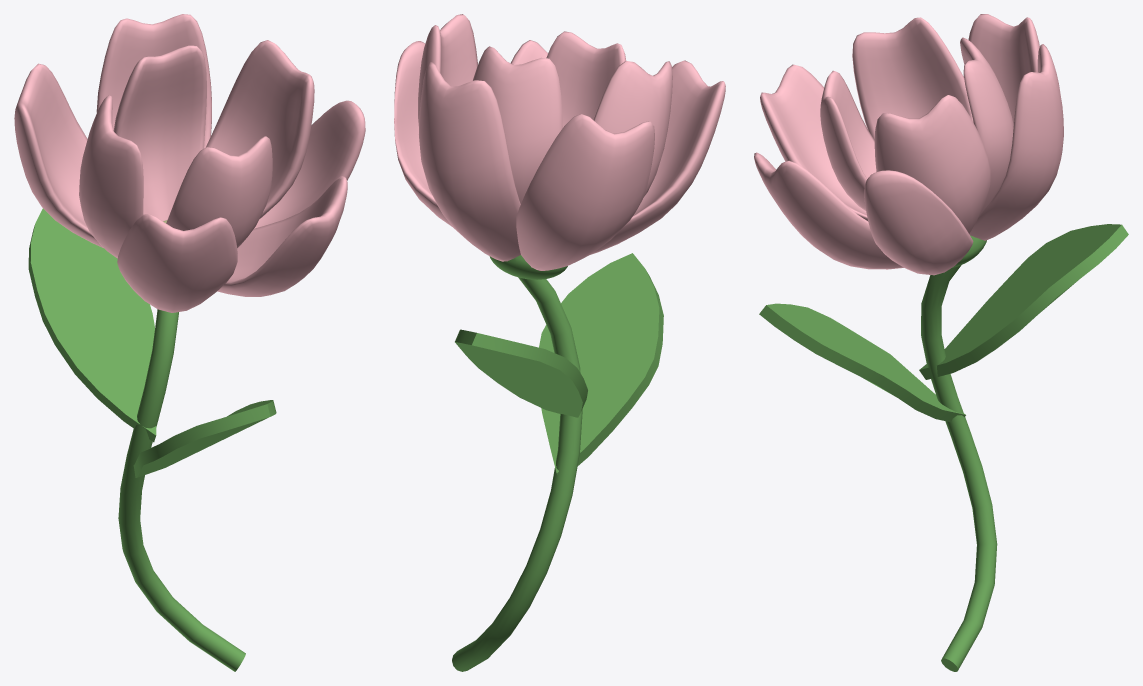
Rendered from FlowerAR1.glb.
The picture shows the model from 3 angles, left to right: view 1: azimuth 30°, elevation 25°; view 2: azimuth 150°, elevation 25°; view 3: azimuth 270°, elevation 25°; orthographic projection. The views are drawn at different scales.
Parts seen in each view (by area): view 1: 圆环, 平面.008, 平面.007, 平面.004, 贝塞尔曲线, 平面.002, 平面.006, 平面.005, 平面.003, 平面.009, 平面, 圆环.001; view 2: 平面.002, 圆环.001, 平面, 贝塞尔曲线, 平面.004, 平面.008, 圆环, 平面.003, 平面.005, 平面.009, 平面.007, 球体 (+1 smaller); view 3: 圆环, 平面.007, 平面.003, 贝塞尔曲线, 平面, 平面.009, 平面.006, 圆环.001, 平面.004, 平面.005, 平面.008, 平面.002.
Part boxes in pixels (x1=…): 圆环: x1=28, y1=208, x2=156, y2=442; 平面.008: x1=113, y1=45, x2=206, y2=221; 平面.007: x1=206, y1=40, x2=314, y2=218; 平面.004: x1=117, y1=214, x2=237, y2=312; 贝塞尔曲线: x1=118, y1=309, x2=245, y2=671; 平面.002: x1=14, y1=63, x2=103, y2=247; 平面.006: x1=217, y1=176, x2=347, y2=296; 平面.005: x1=166, y1=136, x2=272, y2=247; 平面.003: x1=79, y1=95, x2=143, y2=258; 平面.009: x1=254, y1=100, x2=365, y2=228; 平面: x1=96, y1=14, x2=211, y2=148; 圆环.001: x1=133, y1=400, x2=276, y2=477; 平面.002: x1=516, y1=114, x2=654, y2=270; 圆环.001: x1=539, y1=253, x2=663, y2=474; 平面: x1=419, y1=62, x2=520, y2=261; 贝塞尔曲线: x1=452, y1=277, x2=582, y2=671; 平面.004: x1=590, y1=60, x2=725, y2=254; 平面.008: x1=473, y1=46, x2=562, y2=203; 圆环: x1=455, y1=329, x2=587, y2=417; 平面.003: x1=593, y1=61, x2=672, y2=197; 平面.005: x1=546, y1=31, x2=626, y2=127; 平面.009: x1=394, y1=41, x2=452, y2=226; 平面.007: x1=418, y1=14, x2=477, y2=125; 球体: x1=489, y1=255, x2=567, y2=279; 圆环: x1=919, y1=224, x2=1128, y2=379; 平面.007: x1=874, y1=95, x2=990, y2=233; 平面.003: x1=852, y1=17, x2=972, y2=139; 贝塞尔曲线: x1=921, y1=265, x2=997, y2=671; 平面: x1=969, y1=44, x2=1063, y2=240; 平面.009: x1=864, y1=170, x2=973, y2=275; 平面.006: x1=754, y1=152, x2=904, y2=269; 圆环.001: x1=759, y1=303, x2=965, y2=422; 平面.004: x1=760, y1=64, x2=868, y2=221; 平面.005: x1=820, y1=70, x2=876, y2=210; 平面.008: x1=960, y1=37, x2=1013, y2=214; 平面.002: x1=963, y1=14, x2=1039, y2=125.
Size of the model in its own units: 3.06 by 6.39 by 3.64.
